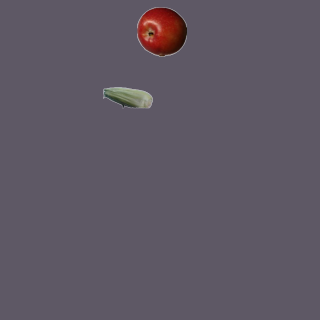Apple Braeburn: (136, 6, 186, 56)
Corn Husk: (102, 72, 152, 122)
